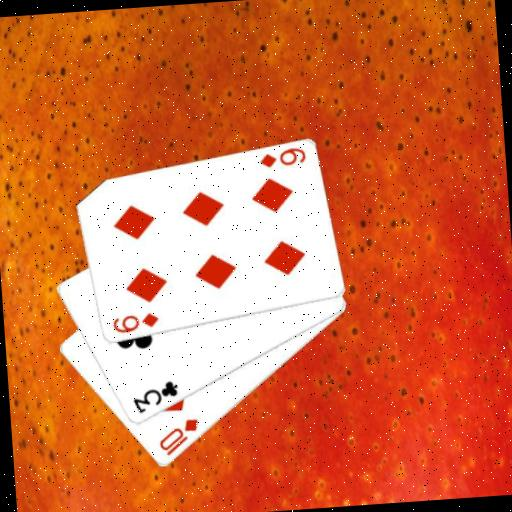10D: (154, 416, 202, 459)
3C: (128, 378, 181, 416)
6D: (108, 309, 161, 336), (256, 145, 308, 171)
